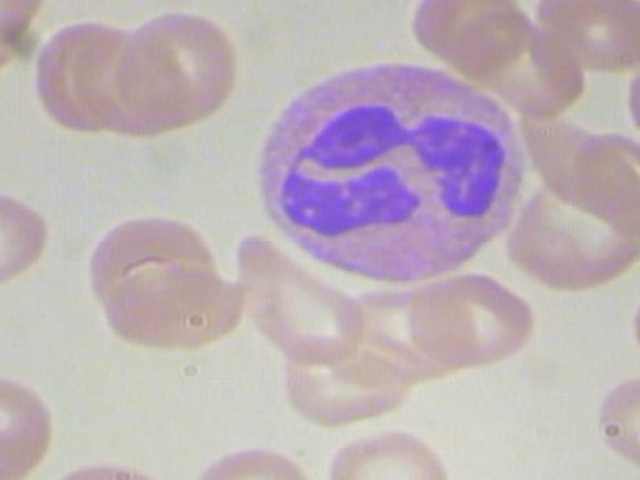RBC: (229, 233, 370, 367), (107, 1, 245, 132), (95, 250, 253, 351), (403, 262, 540, 372), (395, 0, 528, 64), (530, 0, 640, 76), (568, 125, 640, 239), (0, 367, 64, 480), (583, 366, 640, 476), (0, 187, 55, 291), (622, 49, 640, 161), (625, 272, 640, 380)
WBC: (244, 54, 537, 289)
